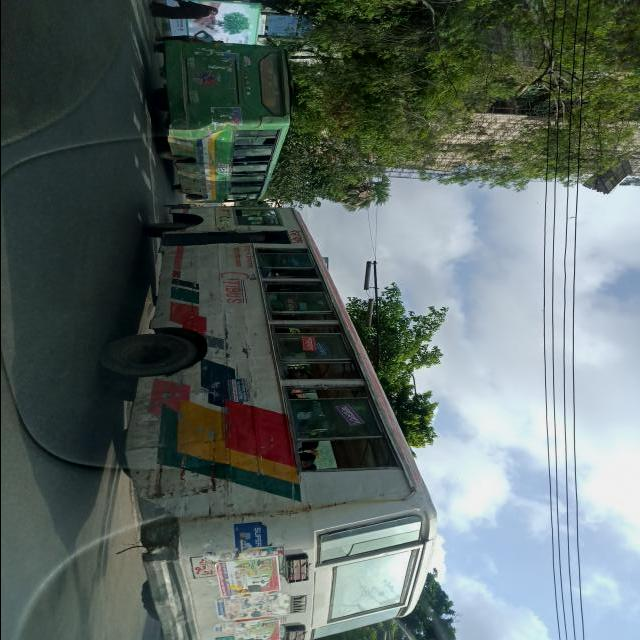bus: (96, 207, 438, 640), (150, 39, 295, 205)
